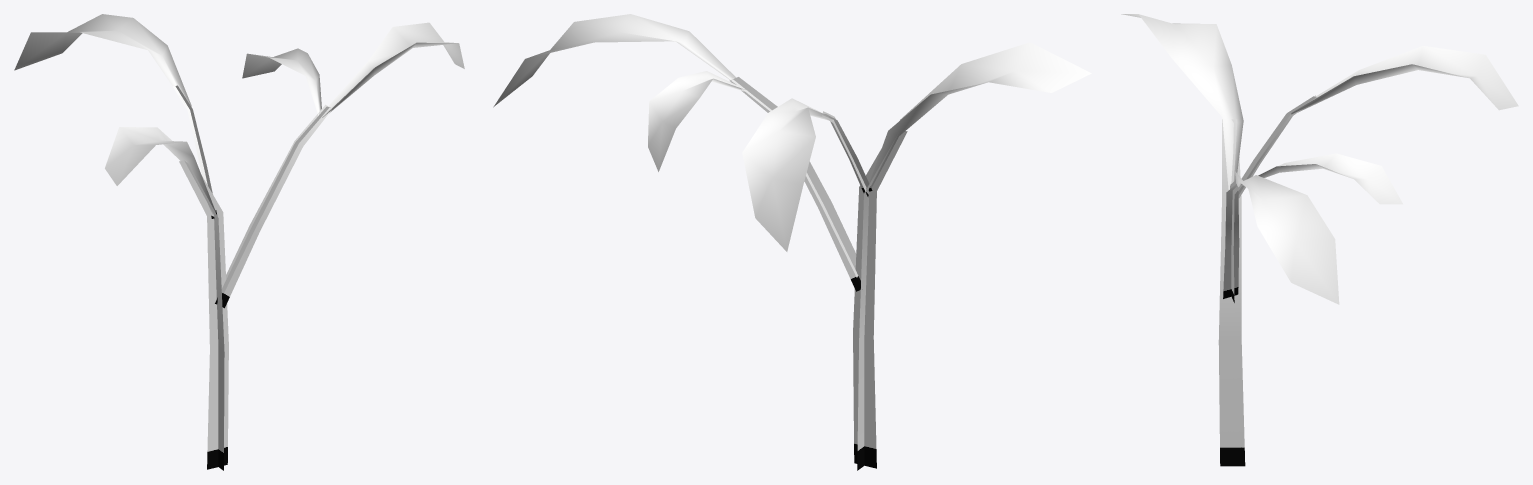
Rendered from SM_TinyTree.FBX.
3 views of the same model, side by side, from view 1: azimuth 30°, elevation 25°; view 2: azimuth 150°, elevation 25°; view 3: azimuth 270°, elevation 25° (orthographic). The views are drawn at different scales.
Visible parts, largest first — view 1: SM_TinyTree; view 2: SM_TinyTree; view 3: SM_TinyTree.
Boxes of the visible parts, left/top/right/bottom form: SM_TinyTree: left=14, top=14, right=464, bottom=470; SM_TinyTree: left=493, top=14, right=1091, bottom=470; SM_TinyTree: left=1121, top=14, right=1518, bottom=466.
Size of the model in its own units: 39.74 by 33.07 by 29.67.
